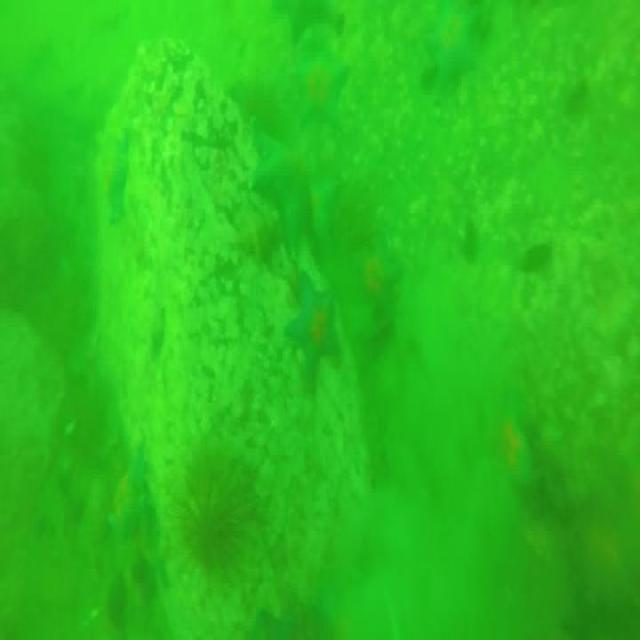echinus: (180, 455, 253, 582)
starfish: (251, 136, 312, 269), (284, 275, 340, 390), (420, 16, 481, 87)
